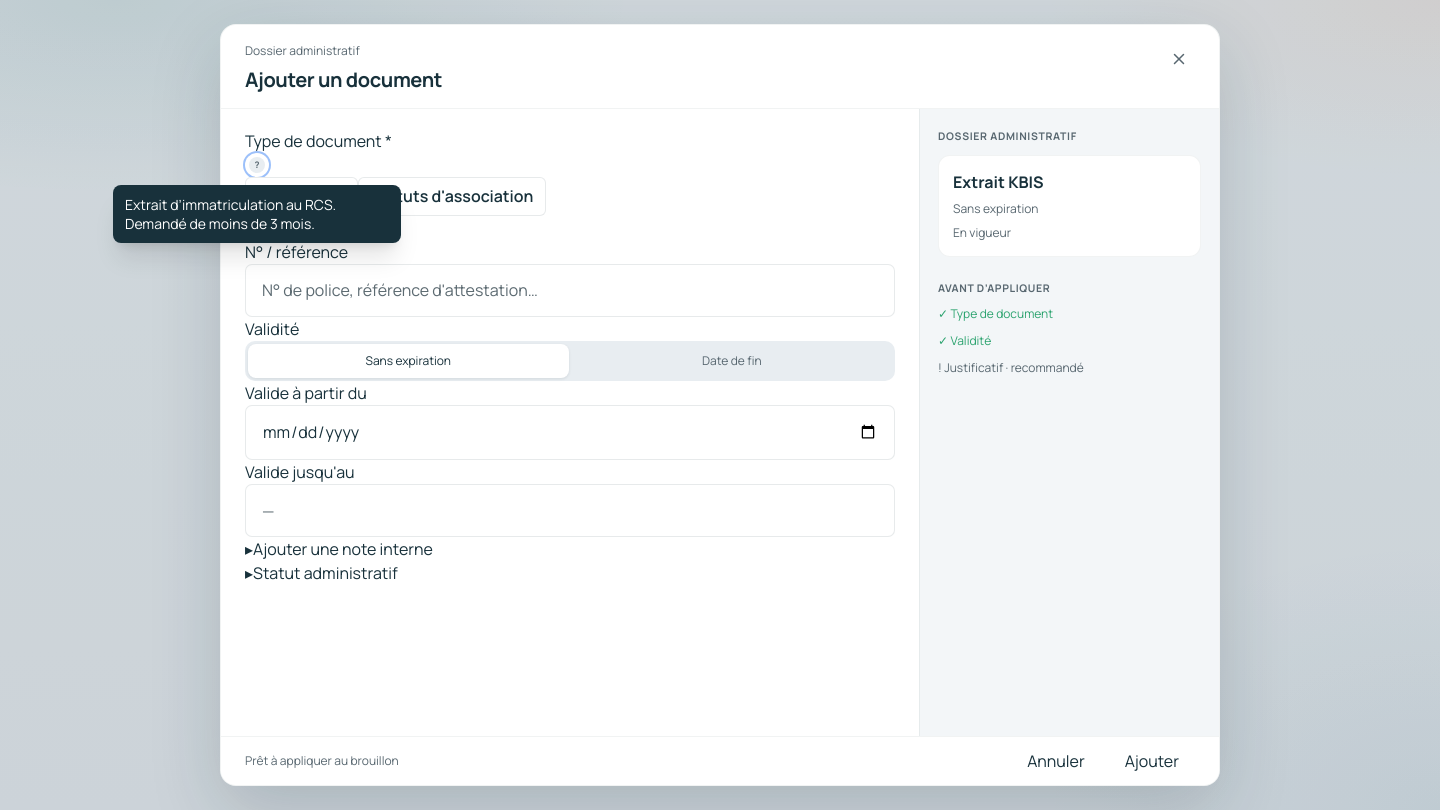
Test: LegalDocumentEditModal › remplace cette aide quand on change de type
Click the button "Statuts d'association".
click(452, 196)  # box [358, 177, 546, 216]
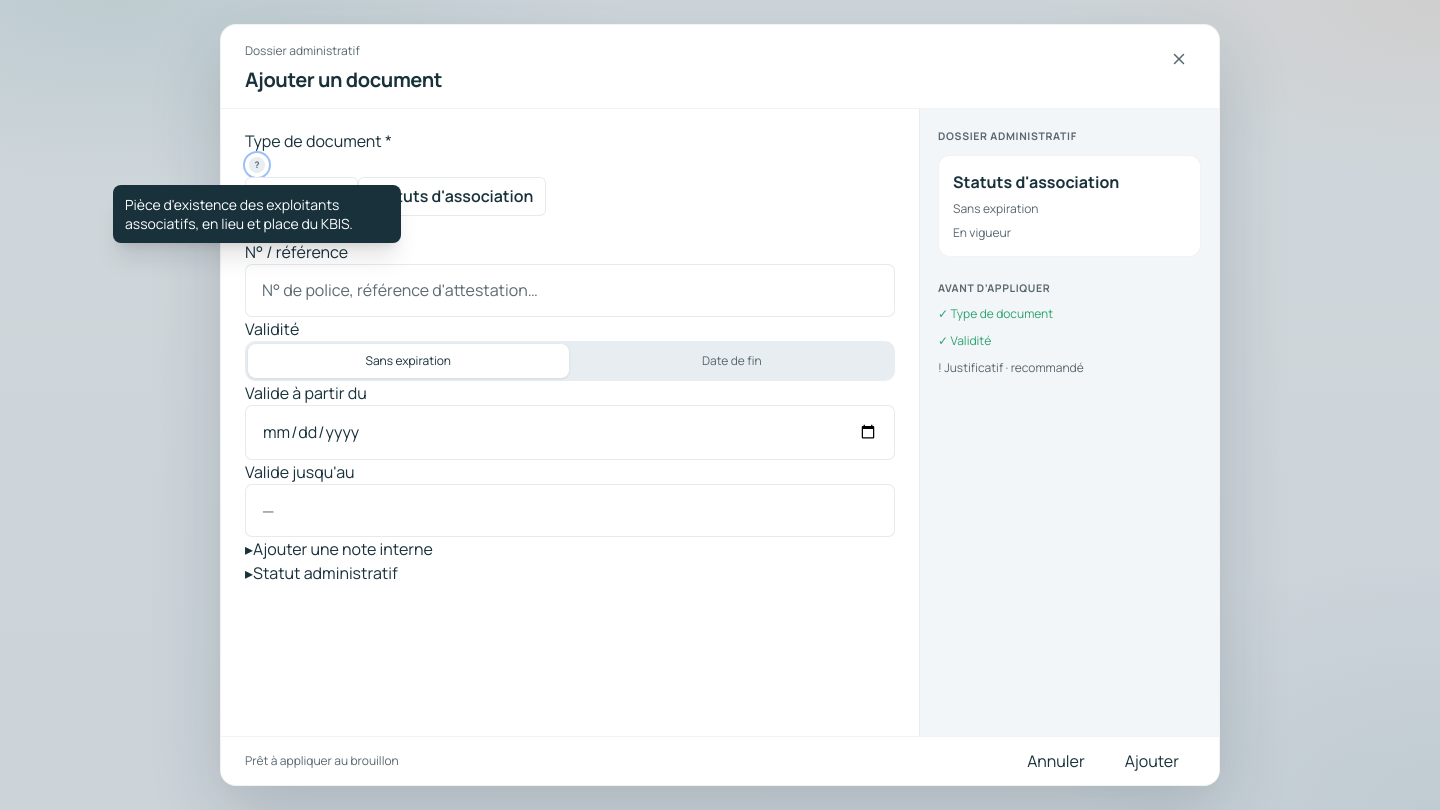
Check: the text "Demandé de moins de 3 mois" is gone
